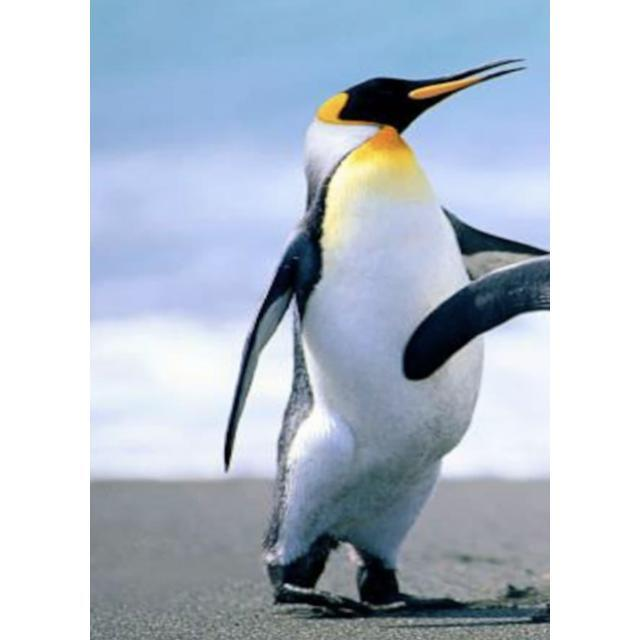penguin: (217, 58, 547, 615)
